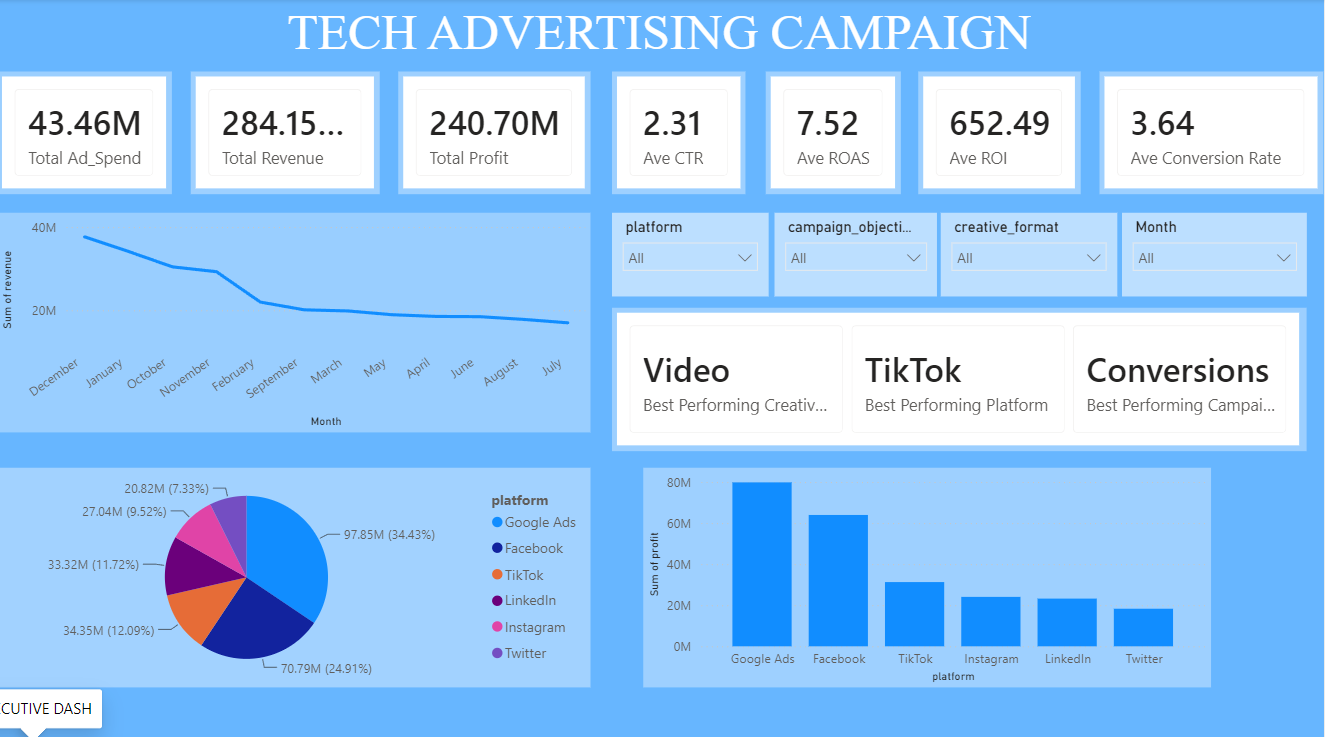

The dashboard page shown, as its layout file describes it:
{"tool":"powerbi","page":{"name":"EXECUTIVE DASH","canvas":[1280,720],"ordinal":0},"visuals":[{"type":"textbox","box":[228.2,0,822.3,69.6],"z":0},{"type":"cardVisual","fields":{"Data":["Tech_Project_Wrk.Total Ad_Spend"]},"box":[0,70,168.9,118.2],"z":1000},{"type":"cardVisual","fields":{"Data":["Tech_Project_Wrk.Total Revenue"]},"box":[187,70,182.2,118.2],"z":2000},{"type":"cardVisual","fields":{"Data":["Tech_Project_Wrk.Total Profit"]},"box":[387.3,70,185.8,118.2],"z":3000},{"type":"cardVisual","fields":{"Data":["Tech_Project_Wrk.Ave CTR"]},"box":[593.6,70,129.1,118.2],"z":4000},{"type":"cardVisual","fields":{"Data":["Tech_Project_Wrk.Ave ROAS"]},"box":[742,70,130.3,118.2],"z":5000},{"type":"cardVisual","fields":{"Data":["Tech_Project_Wrk.Ave ROI"]},"box":[889.1,70,156.8,118.2],"z":6000},{"type":"cardVisual","fields":{"Data":["Tech_Project_Wrk.Ave Conversion Rate"]},"box":[1064,70,216,118.2],"z":7000},{"type":"lineChart","fields":{"Category":["Tech_Project_Wrk.Month"],"Y":["Sum(Tech_Project_Wrk.revenue)"]},"box":[0,206.3,573.1,212.3],"z":8000},{"type":"pieChart","fields":{"Category":["Tech_Project_Wrk.platform"],"Y":["Sum(Tech_Project_Wrk.revenue)"]},"box":[0,452,573,212],"z":9000},{"type":"columnChart","fields":{"Category":["Tech_Project_Wrk.platform"],"Y":["Sum(Tech_Project_Wrk.profit)"]},"box":[623.7,452.4,547.7,212.3],"z":10000},{"type":"slicer","fields":{"Values":["Tech_Project_Wrk.platform"]},"box":[593.6,206.3,150.8,80.8],"z":11000},{"type":"slicer","fields":{"Values":["Tech_Project_Wrk.campaign_objective"]},"box":[750.4,206.3,156.8,80.8],"z":12000},{"type":"slicer","fields":{"Values":["Tech_Project_Wrk.creative_format"]},"box":[910.9,206.3,170.1,80.8],"z":13000},{"type":"slicer","fields":{"Values":["Tech_Project_Wrk.Month"]},"box":[1085.8,206.3,178.6,80.8],"z":14000},{"type":"cardVisual","fields":{"Data":["Tech_Project_Wrk.Best Performing Creative Format","Tech_Project_Wrk.Best Performing Platform","Tech_Project_Wrk.Best Performing Campaign Objective"]},"box":[593.6,298,670.8,138.7],"z":15000}]}

Visuals, with their boxes on the page's 1280x720 design canvas (x1, y1, x2, y2). These are canvas units, not pixel positions in the 1325x737 screenshot, which may show the page scaled, cropped or inside an application window:
textbox: (x1=228, y1=0, x2=1050, y2=70)
cardVisual - Tech_Project_Wrk.Total Ad_Spend: (x1=0, y1=70, x2=169, y2=188)
cardVisual - Tech_Project_Wrk.Total Revenue: (x1=187, y1=70, x2=369, y2=188)
cardVisual - Tech_Project_Wrk.Total Profit: (x1=387, y1=70, x2=573, y2=188)
cardVisual - Tech_Project_Wrk.Ave CTR: (x1=594, y1=70, x2=723, y2=188)
cardVisual - Tech_Project_Wrk.Ave ROAS: (x1=742, y1=70, x2=872, y2=188)
cardVisual - Tech_Project_Wrk.Ave ROI: (x1=889, y1=70, x2=1046, y2=188)
cardVisual - Tech_Project_Wrk.Ave Conversion Rate: (x1=1064, y1=70, x2=1280, y2=188)
lineChart - Tech_Project_Wrk.Month x Sum(Tech_Project_Wrk.revenue): (x1=0, y1=206, x2=573, y2=419)
pieChart - Tech_Project_Wrk.platform x Sum(Tech_Project_Wrk.revenue): (x1=0, y1=452, x2=573, y2=664)
columnChart - Tech_Project_Wrk.platform x Sum(Tech_Project_Wrk.profit): (x1=624, y1=452, x2=1171, y2=665)
slicer - Tech_Project_Wrk.platform: (x1=594, y1=206, x2=744, y2=287)
slicer - Tech_Project_Wrk.campaign_objective: (x1=750, y1=206, x2=907, y2=287)
slicer - Tech_Project_Wrk.creative_format: (x1=911, y1=206, x2=1081, y2=287)
slicer - Tech_Project_Wrk.Month: (x1=1086, y1=206, x2=1264, y2=287)
cardVisual - Tech_Project_Wrk.Best Performing Creative Format x Tech_Project_Wrk.Best Performing Platform: (x1=594, y1=298, x2=1264, y2=437)
